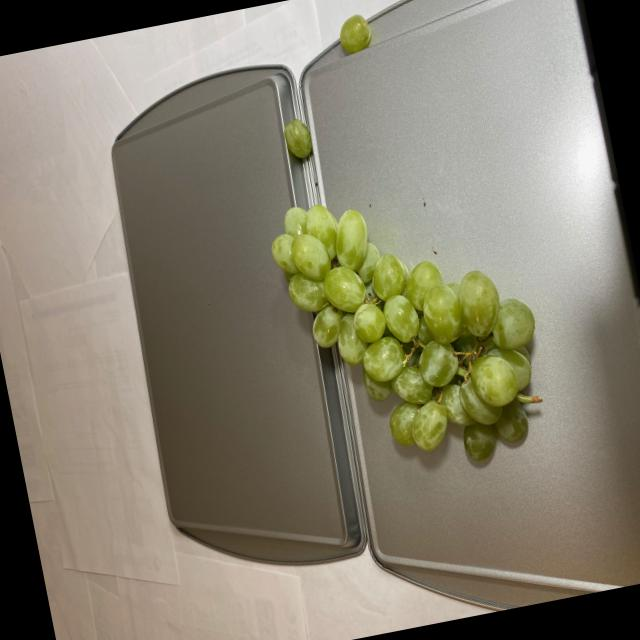grapes: (268, 159, 559, 496), (332, 8, 375, 60), (282, 116, 315, 166)
